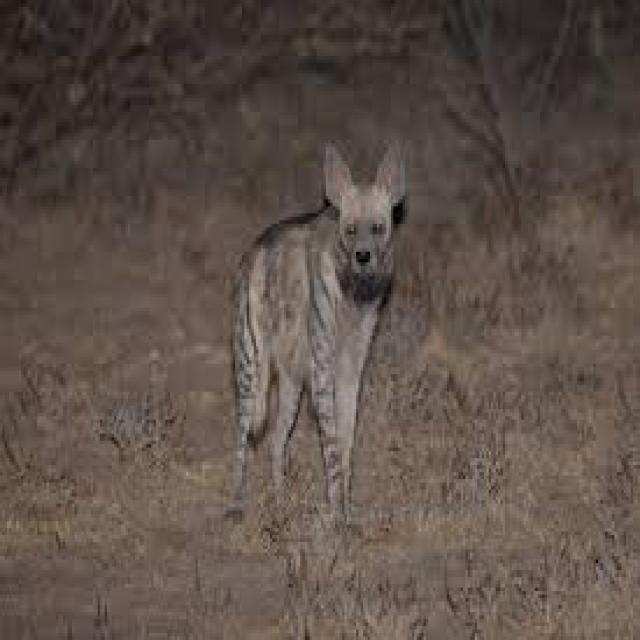Hyena: (227, 148, 410, 500)
